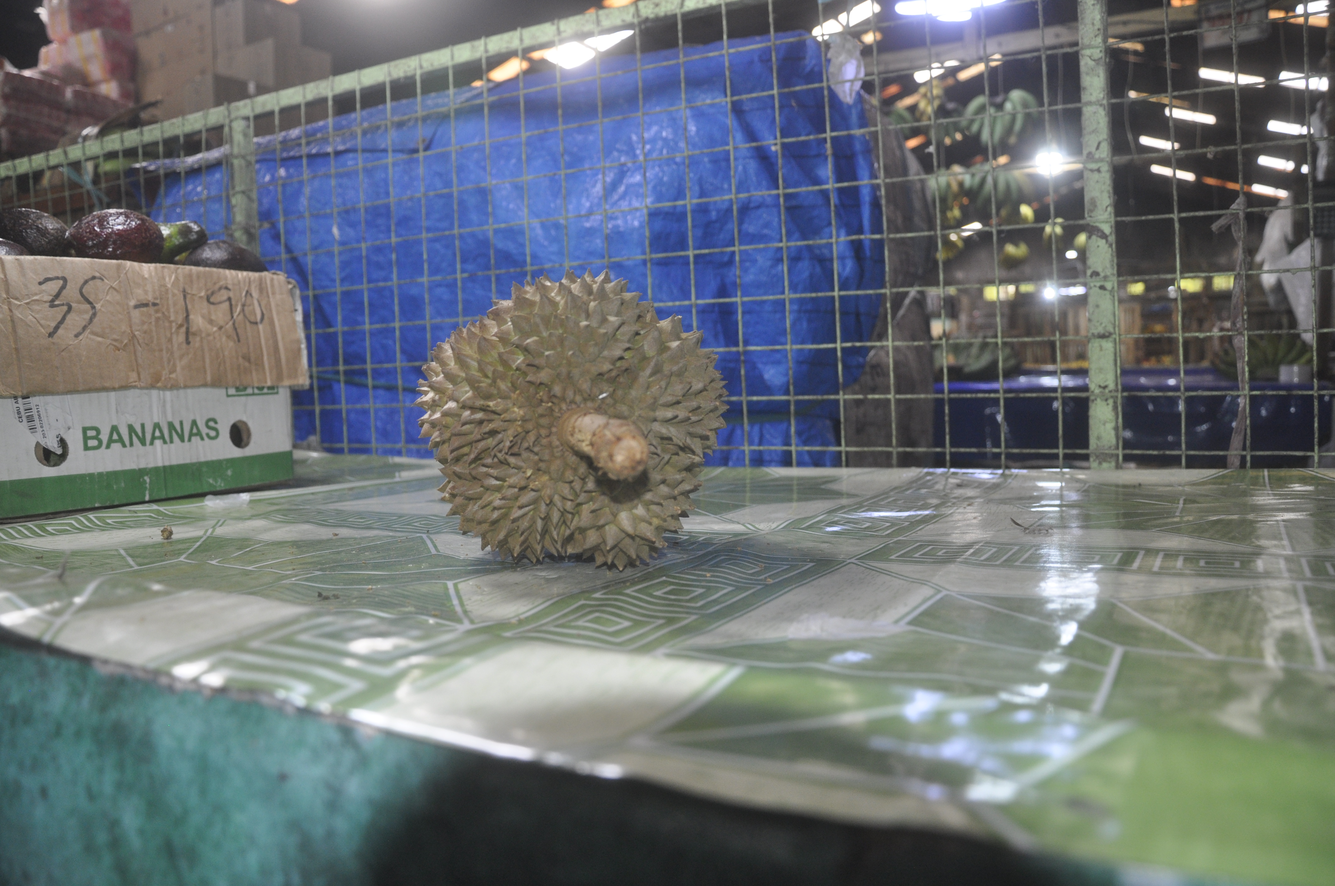mature: (417, 271, 725, 570)
